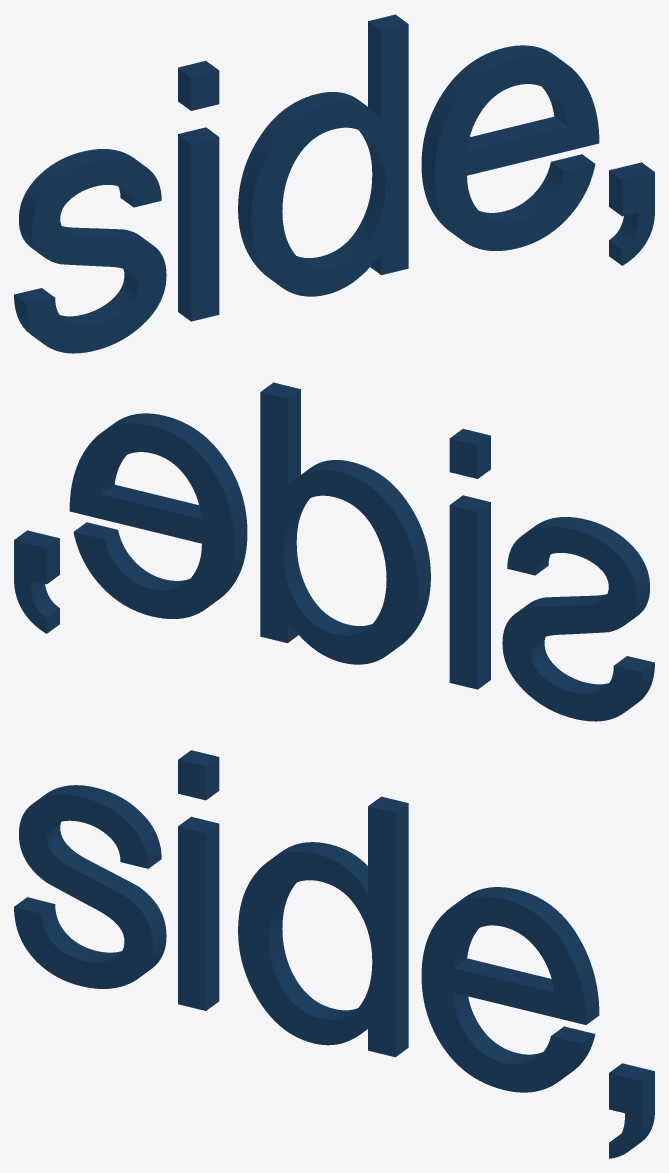
The model's file is side.gltf.
3 views of the same model, one above another, from view 1: azimuth 30°, elevation 25°; view 2: azimuth 150°, elevation 25°; view 3: azimuth 330°, elevation 25° (orthographic).
Size of the model in its own units: 2.72 by 1.22 by 0.1.
